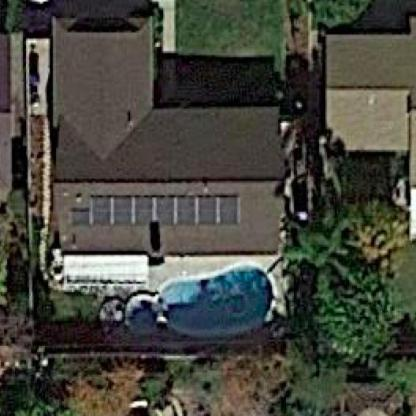solar_panel: (63, 185, 249, 238)
swimming_pool: (116, 261, 286, 344)
